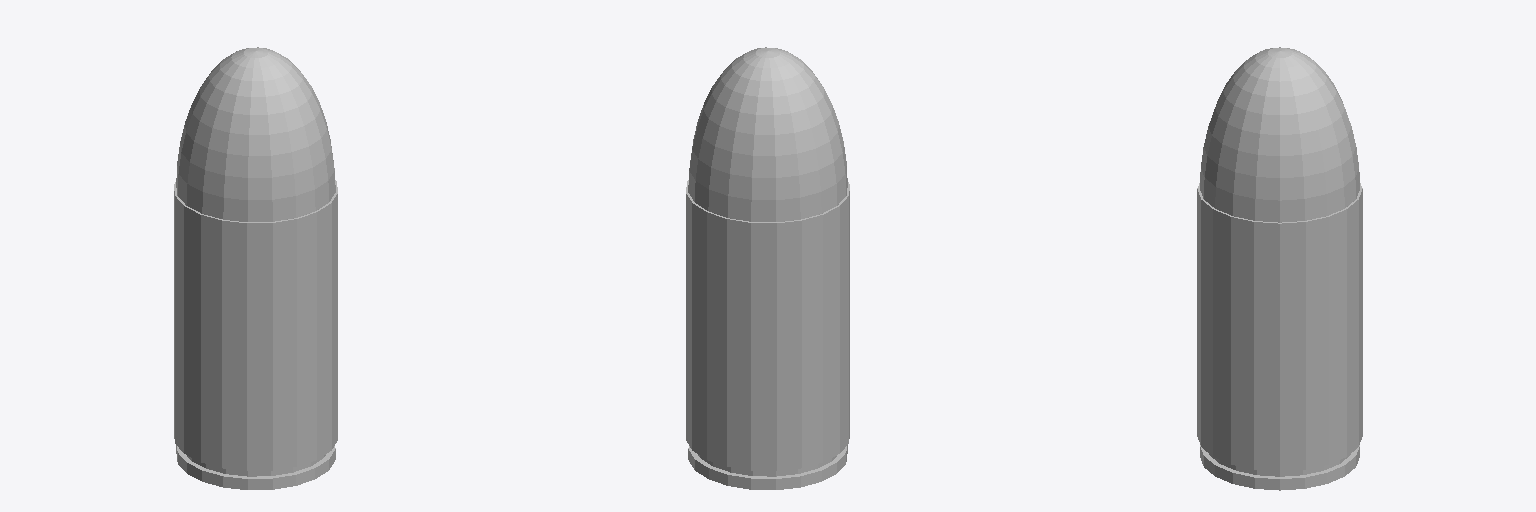
The model's file is PistolBullet.obj.
3 views of the same model, side by side, from view 1: azimuth 30°, elevation 25°; view 2: azimuth 150°, elevation 25°; view 3: azimuth 270°, elevation 25° (orthographic).
Parts seen in each view (by area): view 1: Pistol_Bullet_9mm; view 2: Pistol_Bullet_9mm; view 3: Pistol_Bullet_9mm.
Boxes of the visible parts, <box> form: Pistol_Bullet_9mm: <box>174,47,337,489</box>; Pistol_Bullet_9mm: <box>686,47,849,489</box>; Pistol_Bullet_9mm: <box>1197,47,1362,490</box>.
Size of the model in its own units: 2.21 by 6.05 by 2.21.